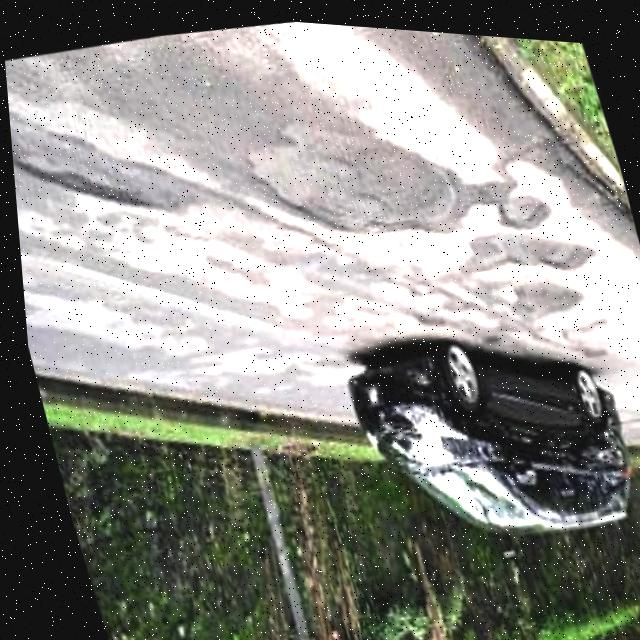Pothole: (214, 89, 493, 291), (4, 69, 191, 253), (485, 245, 597, 328), (506, 205, 610, 272), (487, 177, 581, 234), (619, 280, 640, 323)
